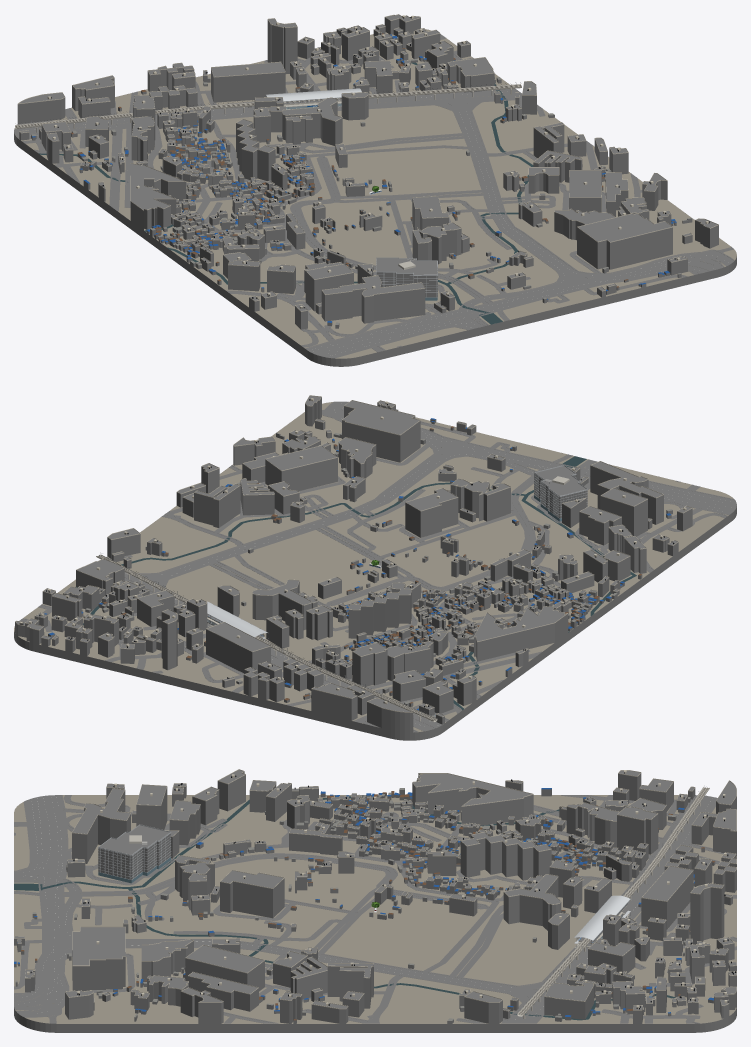
The model's file is fulcrum.glb.
3 renders of one model, top to bottom at view 1: azimuth 30°, elevation 25°; view 2: azimuth 150°, elevation 25°; view 3: azimuth 270°, elevation 25°, orthographic. The views are drawn at different scales.
Visible parts, largest first — view 1: context, ground, plinth, metro, opt_fulcrum, rooftops, stations; view 2: context, ground, plinth, opt_fulcrum, rooftops, metro, stations; view 3: context, ground, plinth, opt_fulcrum, rooftops, metro, stations.
Part boxes in pixels (x1,y1,x2,y2): context: (17,14,718,329); ground: (14,29,736,358); plinth: (14,132,736,366); metro: (15,82,521,132); opt_fulcrum: (376,257,437,300); rooftops: (47,15,709,308); stations: (266,88,361,109); context: (15,395,692,732); ground: (14,401,736,732); plinth: (14,506,736,740); opt_fulcrum: (534,465,587,521); rooftops: (19,398,686,707); metro: (96,554,437,721); stations: (207,601,267,638); context: (14,769,736,1023); ground: (14,795,736,1023); plinth: (14,1007,736,1032); opt_fulcrum: (98,824,171,883); rooftops: (27,770,736,1009); metro: (517,787,709,1018); stations: (574,895,630,947).
Bounding box in the file's own units: 761 × 96.1 × 1015.
